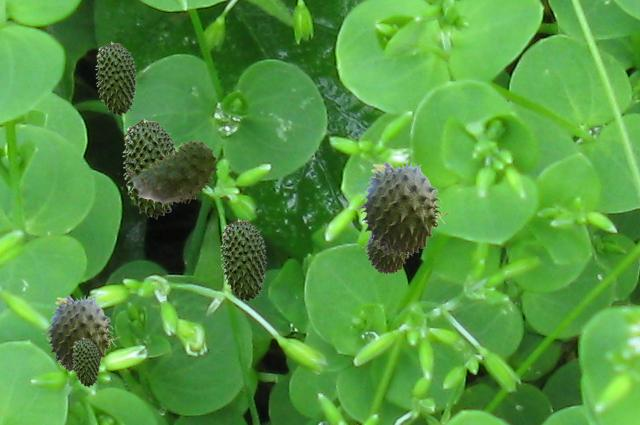guyabano: (355, 160, 449, 255), (42, 294, 119, 372), (126, 140, 217, 206), (122, 118, 176, 218), (220, 218, 266, 301), (95, 41, 136, 115), (362, 232, 413, 273), (72, 337, 99, 386)
